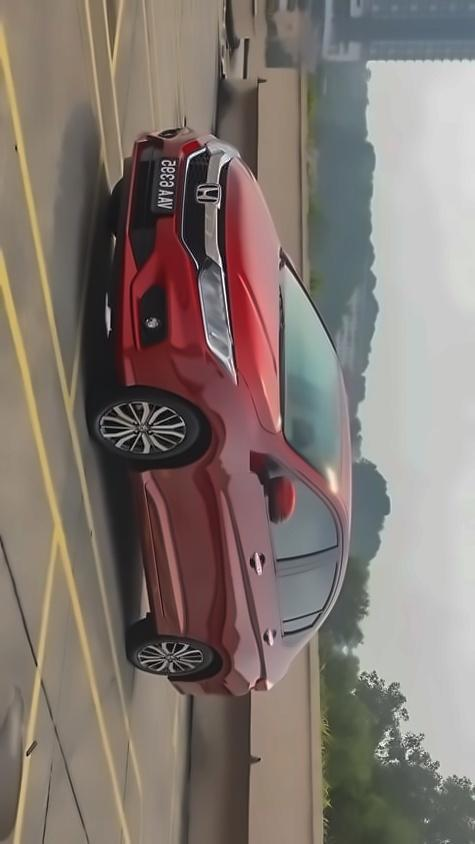Car hood: (216, 143, 289, 436)
Fender - -F-L-: (130, 369, 291, 497)
Fender - -R-L-: (154, 624, 282, 692)
Front bumper: (106, 120, 200, 401)
Headlight - -L-: (192, 246, 247, 394)
Headlight - -R-: (202, 130, 247, 163)
Passenger-s door - -F-L-: (143, 464, 352, 566)
Passenger-s door - -R-L-: (160, 559, 351, 653)
Rear bumper: (167, 672, 250, 706)
Rear light - -L-: (247, 666, 281, 707)
Side bumper - -L-: (124, 456, 183, 644)
Side mirror - -L-: (249, 462, 305, 529)
